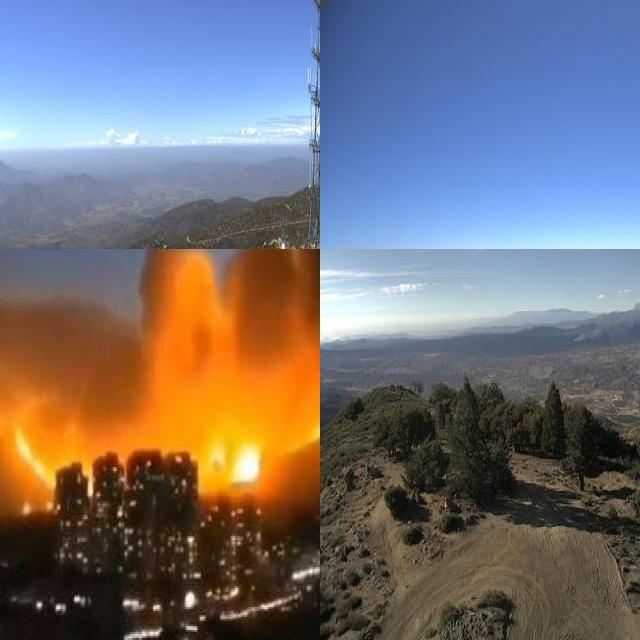fire: (200, 390, 320, 503), (9, 416, 58, 488)
smoke: (0, 249, 320, 440), (565, 282, 640, 348)
